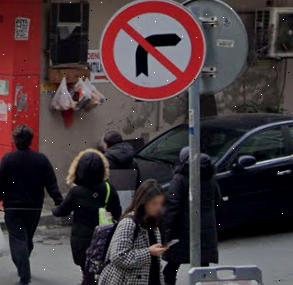rightturnsareforbidden: (106, 2, 200, 94)
